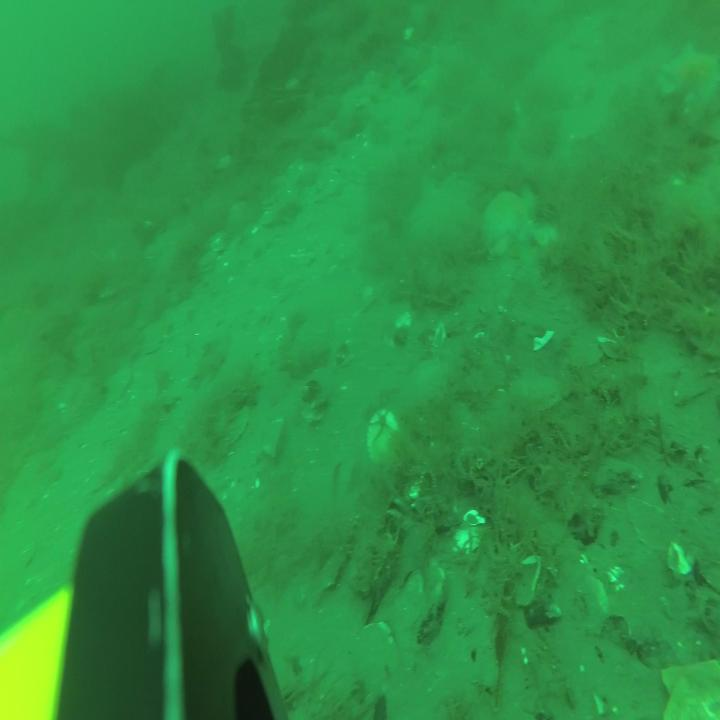scallop: (366, 406, 400, 470), (196, 249, 218, 271)
starfish: (481, 189, 540, 259), (664, 38, 717, 108)
